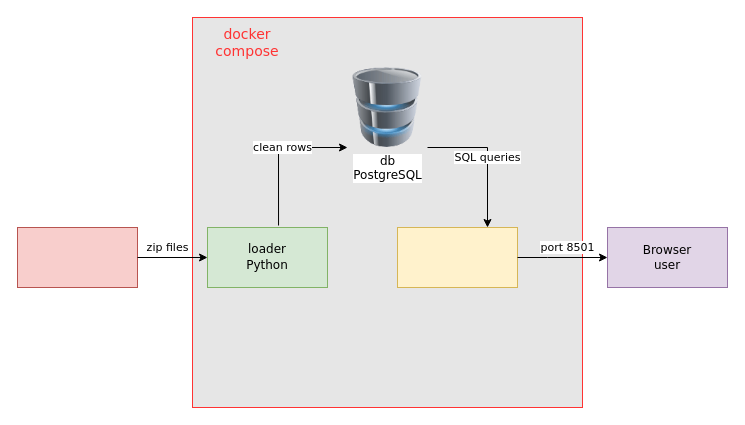
Image size: 745x425. Some labels were removed from this diagram. Here are the shapes that lost their labels. From the top down, the box of each, then its label:
(16, 226, 138, 288): data.gouv.fr DVF files
(396, 226, 518, 288): app Streamlit
